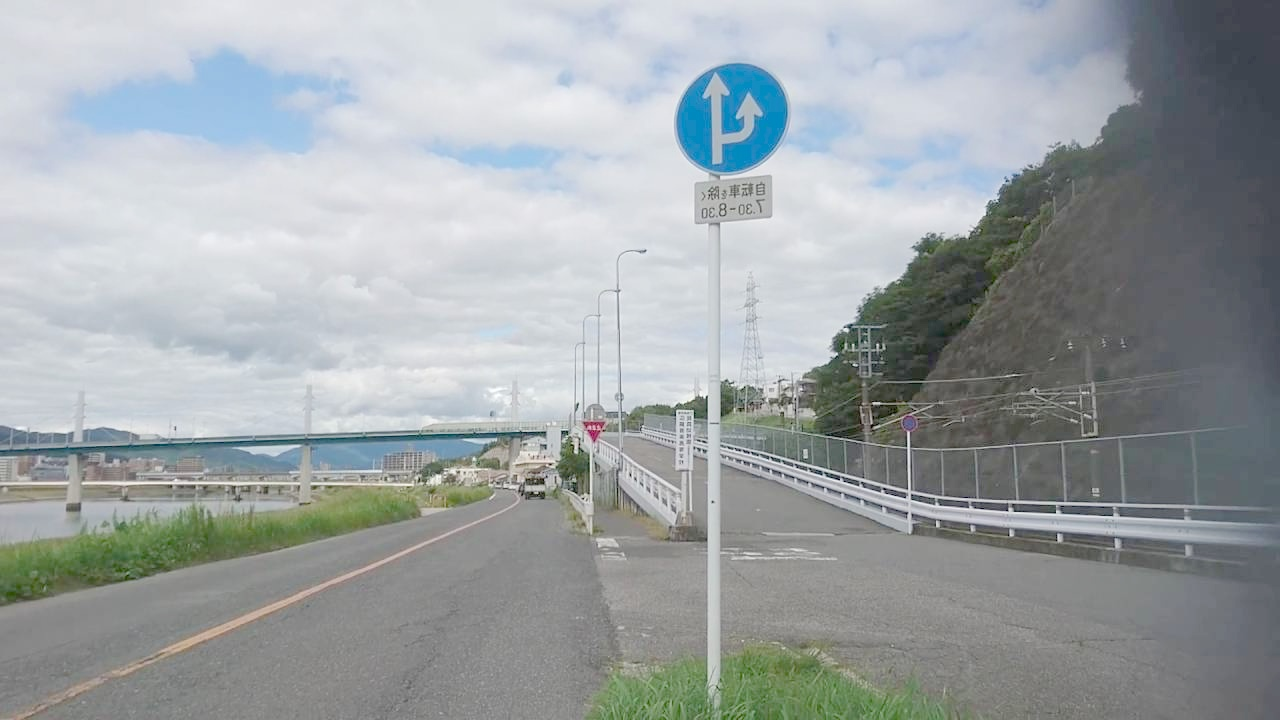Direction_sign: (660, 58, 794, 187)
